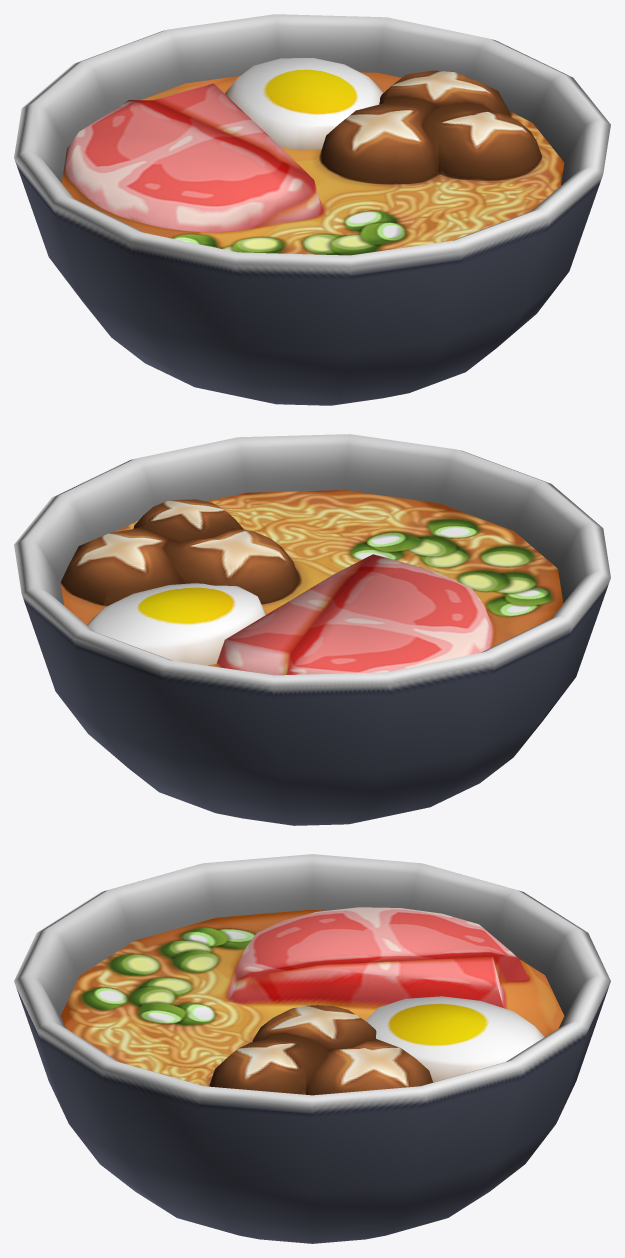
Rendered from 011-Soup_02.FBX.
3 views of the same model, one above another, from view 1: azimuth 30°, elevation 25°; view 2: azimuth 150°, elevation 25°; view 3: azimuth 270°, elevation 25° (orthographic).
Parts seen in each view (by area): view 1: 011-Soup_02; view 2: 011-Soup_02; view 3: 011-Soup_02.
Boxes of the visible parts, <box> form: 011-Soup_02: <box>14,14,610,405</box>; 011-Soup_02: <box>14,434,610,825</box>; 011-Soup_02: <box>14,854,610,1243</box>.
Size of the model in its own units: 28.29 by 11 by 28.29.
